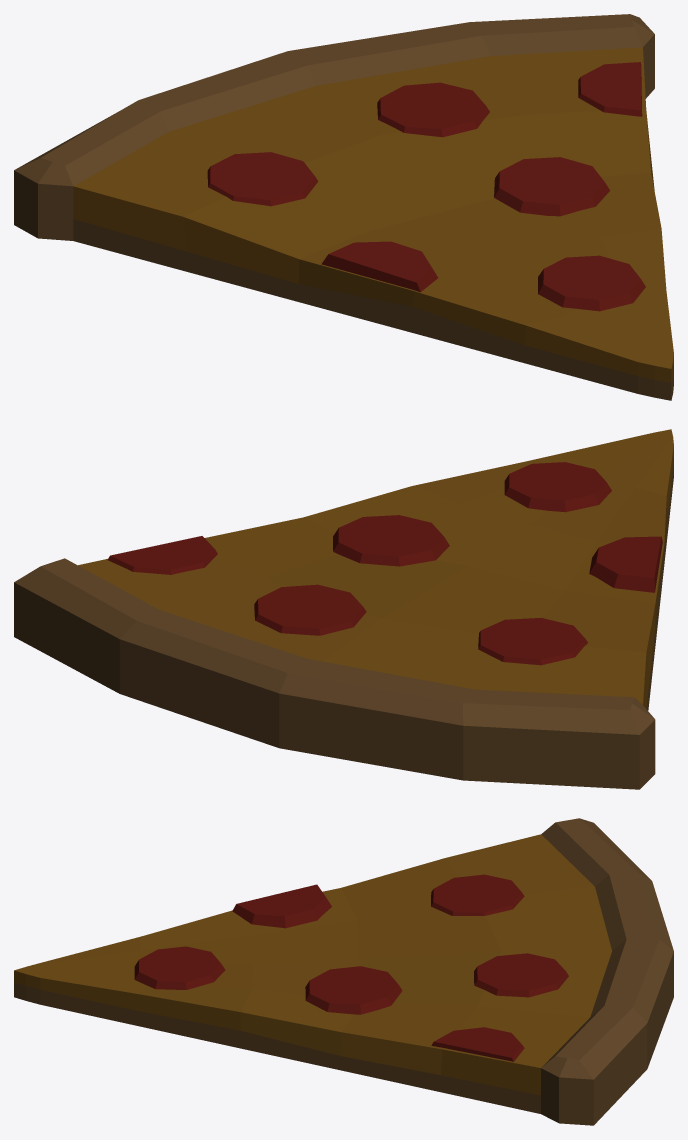
File: Pizza_Slice.obj
3 renders of one model, top to bottom at view 1: azimuth 30°, elevation 25°; view 2: azimuth 150°, elevation 25°; view 3: azimuth 270°, elevation 25°, orthographic. The views are drawn at different scales.
Parts seen in each view (by area): view 1: Pizza_Slice_Cube.003; view 2: Pizza_Slice_Cube.003; view 3: Pizza_Slice_Cube.003.
Part boxes in pixels (bbox=[...]): Pizza_Slice_Cube.003: bbox=[14, 14, 673, 400]; Pizza_Slice_Cube.003: bbox=[14, 429, 673, 789]; Pizza_Slice_Cube.003: bbox=[14, 818, 673, 1125].
Size of the model in its own units: 1.07 by 0.1128 by 1.16.
